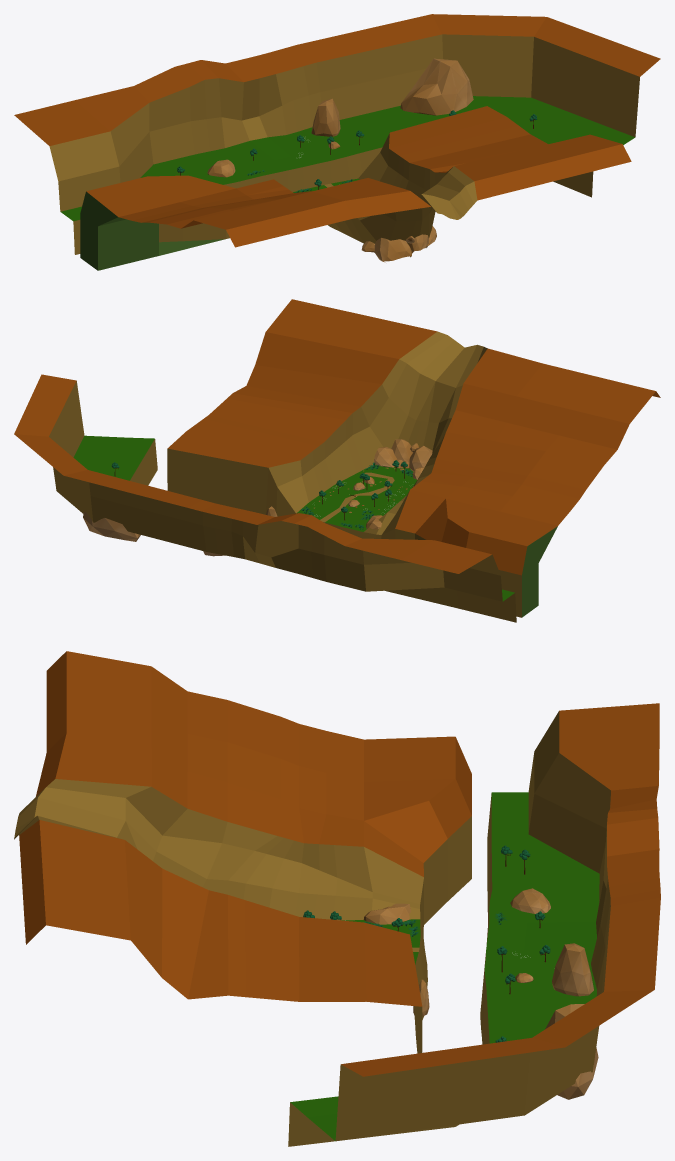
File: land.fbx
3 views of the same model, one above another, from view 1: azimuth 30°, elevation 25°; view 2: azimuth 150°, elevation 25°; view 3: azimuth 270°, elevation 25° (orthographic). The views are drawn at different scales.
Parts seen in each view (by area): view 1: Земля, Каміння, Дерева; view 2: Земля, Каміння, Дерева; view 3: Земля, Каміння, Дерева.
Part boxes in pixels (bbox=[...]): Земля: bbox=[14, 14, 660, 270]; Каміння: bbox=[207, 58, 473, 262]; Дерева: bbox=[177, 110, 537, 189]; Земля: bbox=[14, 299, 660, 622]; Каміння: bbox=[83, 439, 432, 556]; Дерева: bbox=[111, 460, 407, 520]; Земля: bbox=[14, 651, 660, 1146]; Каміння: bbox=[363, 888, 598, 1099]; Дерева: bbox=[303, 845, 550, 1042].
Size of the model in its own units: 131 by 30.84 by 95.67.
